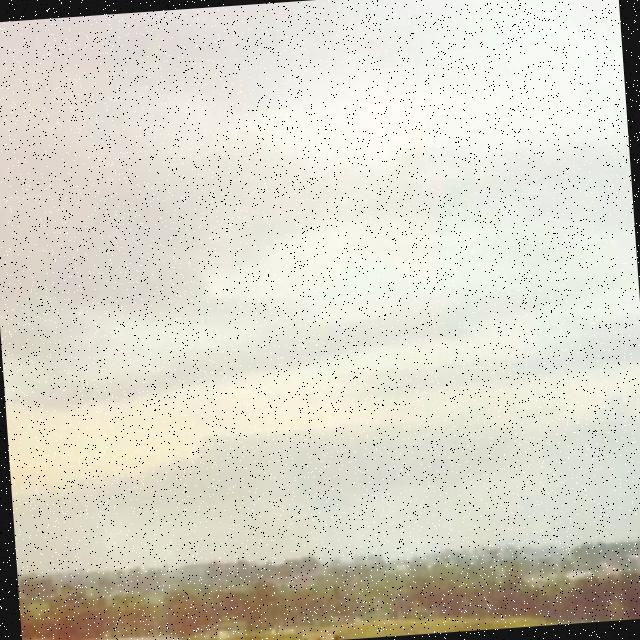St: (1, 15, 640, 494)
